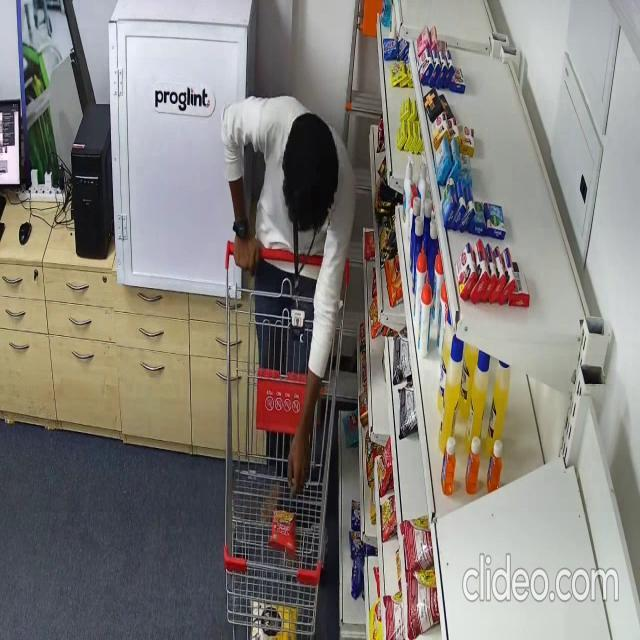normal: (219, 91, 356, 556)
